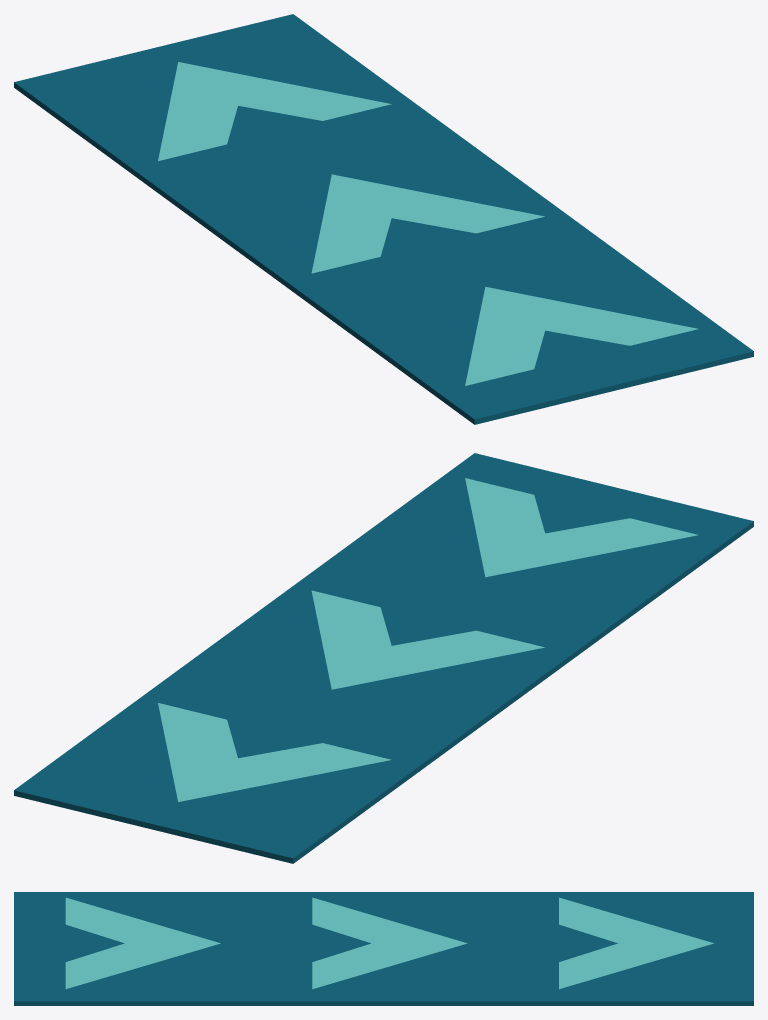
The model's file is boost_chevrons_visual_3m.glb.
The picture shows the model from 3 angles, top to bottom: view 1: azimuth 30°, elevation 25°; view 2: azimuth 150°, elevation 25°; view 3: azimuth 270°, elevation 25°; orthographic projection. The views are drawn at different scales.
Visible parts, largest first — view 1: boost_chevrons_visual_3m__common; view 2: boost_chevrons_visual_3m__common; view 3: boost_chevrons_visual_3m__common.
Part boxes in pixels (bbox=[...]): boost_chevrons_visual_3m__common: bbox=[14, 14, 753, 424]; boost_chevrons_visual_3m__common: bbox=[14, 453, 753, 863]; boost_chevrons_visual_3m__common: bbox=[14, 892, 753, 1005].
Bounding box in the file's own units: 1.05 × 0.035 × 3.
